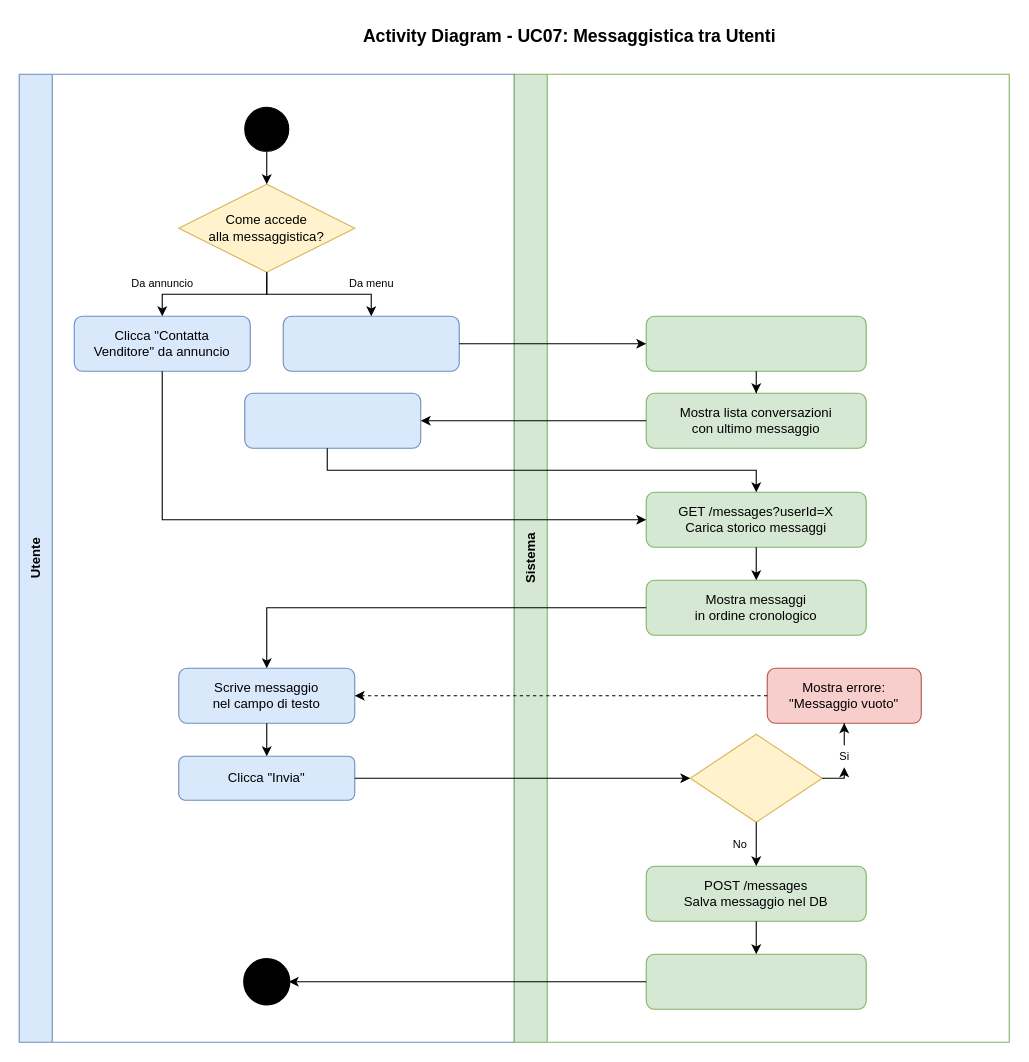
The diagram is 1029 pixels wide and 1062 high, and some of its shapes have lost their labels. The shapes that lost their labels are listed below. From the top down, each one's centre as x and y in pixels, then its label:
At pixel 370 343: "Accede alla sezione Messaggi".
At pixel 755 343: "GET /conversations Carica lista conversazioni".
At pixel 332 420: "Seleziona conversazione esistente".
At pixel 755 777: "Messaggio vuoto?".
At pixel 755 981: "Aggiorna conversazione con nuovo messaggio".
